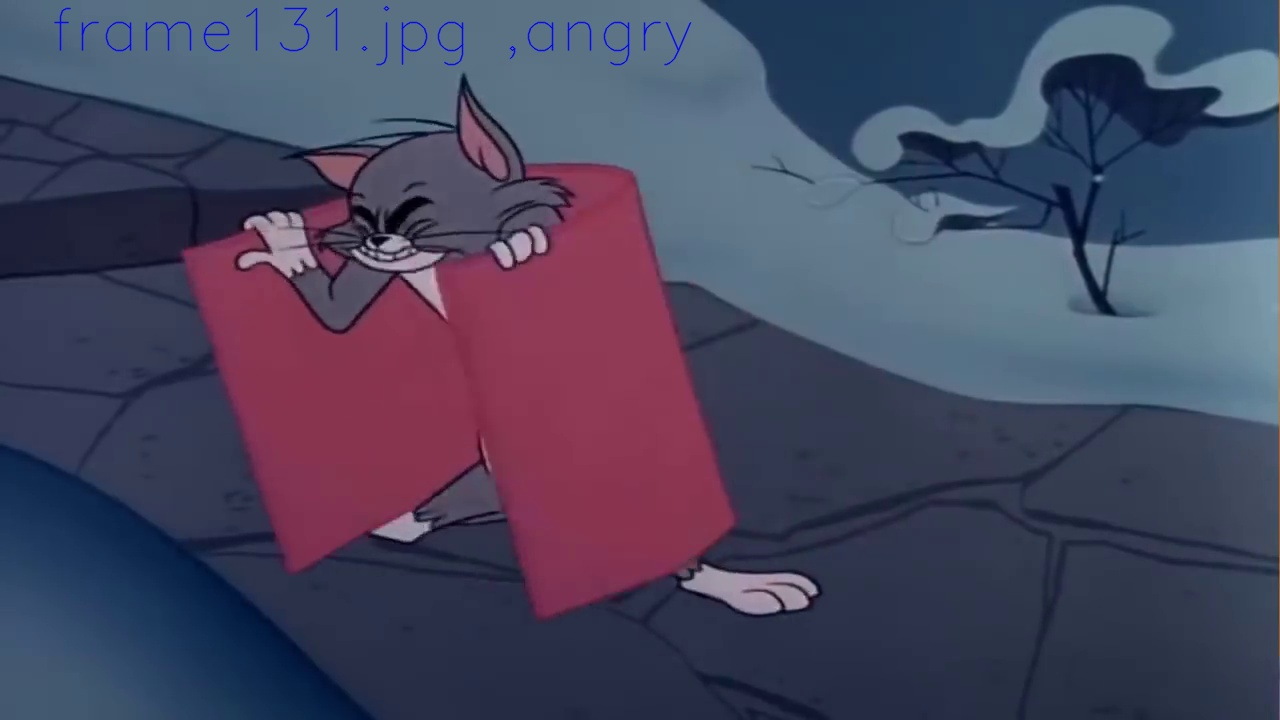angry: (348, 185, 432, 271)
